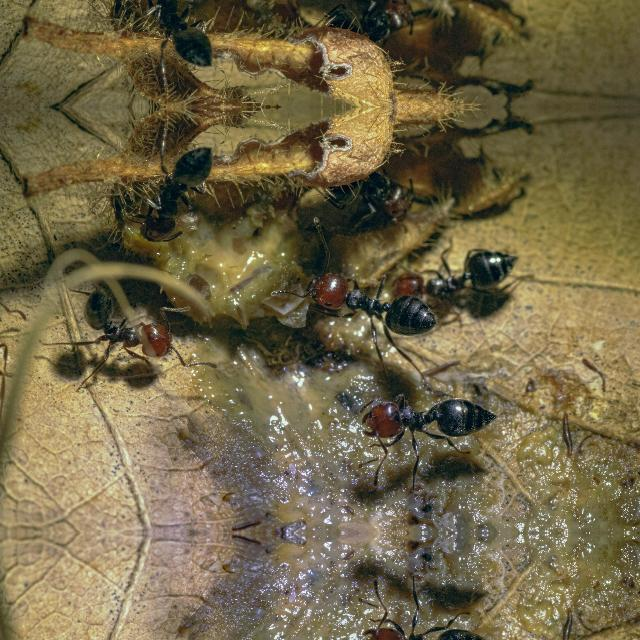Crematogaster: (342, 384, 506, 466), (302, 258, 438, 346), (128, 146, 218, 252), (385, 238, 513, 312), (90, 277, 184, 367), (342, 599, 505, 640), (128, 0, 218, 65)
